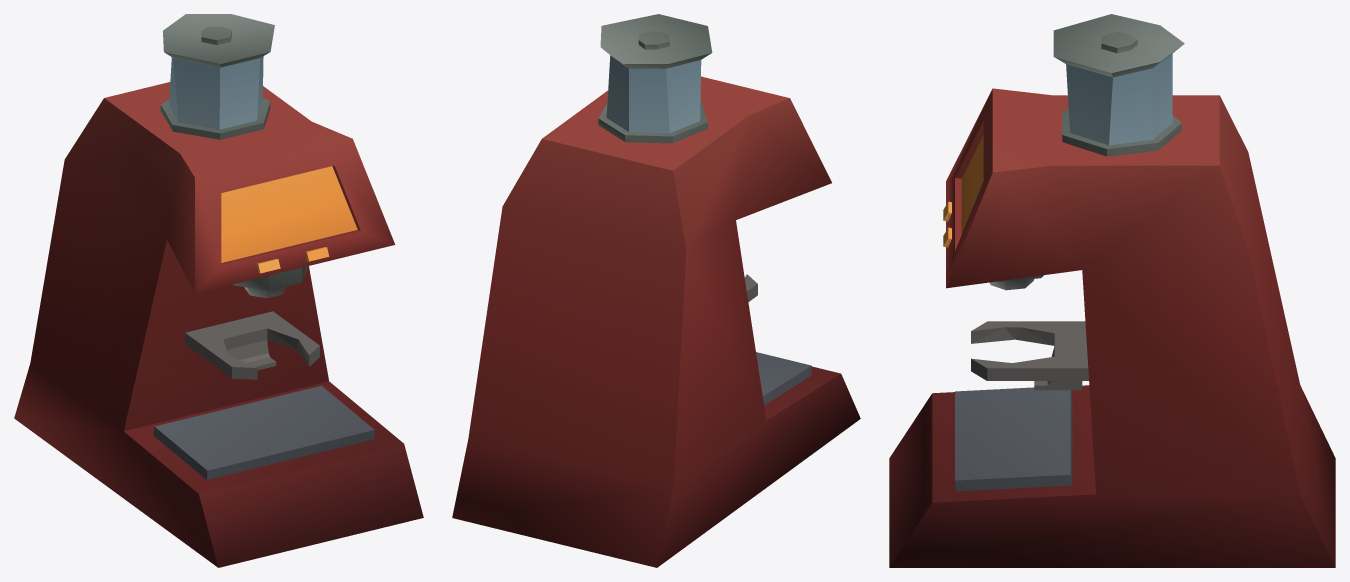
Rendered from SM_CoffeeMachine.fbx.
3 views of the same model, side by side, from view 1: azimuth 30°, elevation 25°; view 2: azimuth 150°, elevation 25°; view 3: azimuth 270°, elevation 25° (orthographic). The views are drawn at different scales.
Visible parts, largest first — view 1: Cube; view 2: Cube; view 3: Cube.
Boxes of the visible parts, box(x1,y1,x2,y2) form: Cube: box(14, 14, 423, 567); Cube: box(452, 14, 860, 567); Cube: box(889, 14, 1335, 567).
Size of the model in its own units: 0.1461 by 0.2943 by 0.2517.
